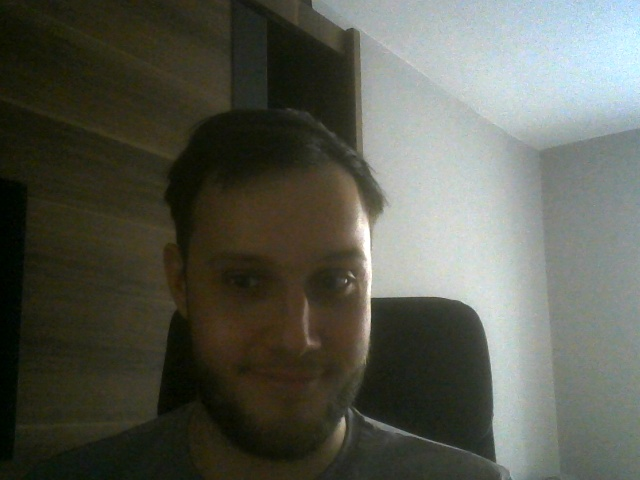happy: (162, 110, 374, 457)
